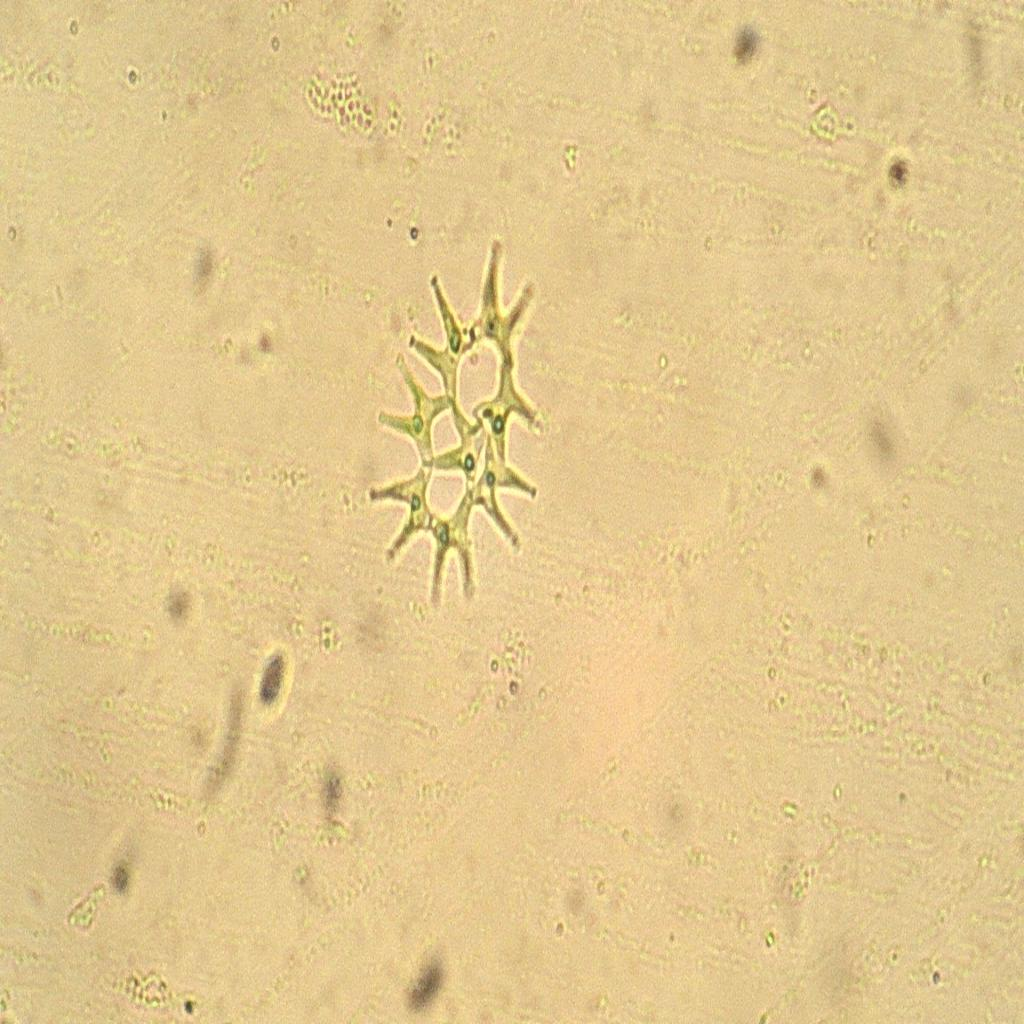Pediastrum_CFI: (358, 222, 540, 626)
